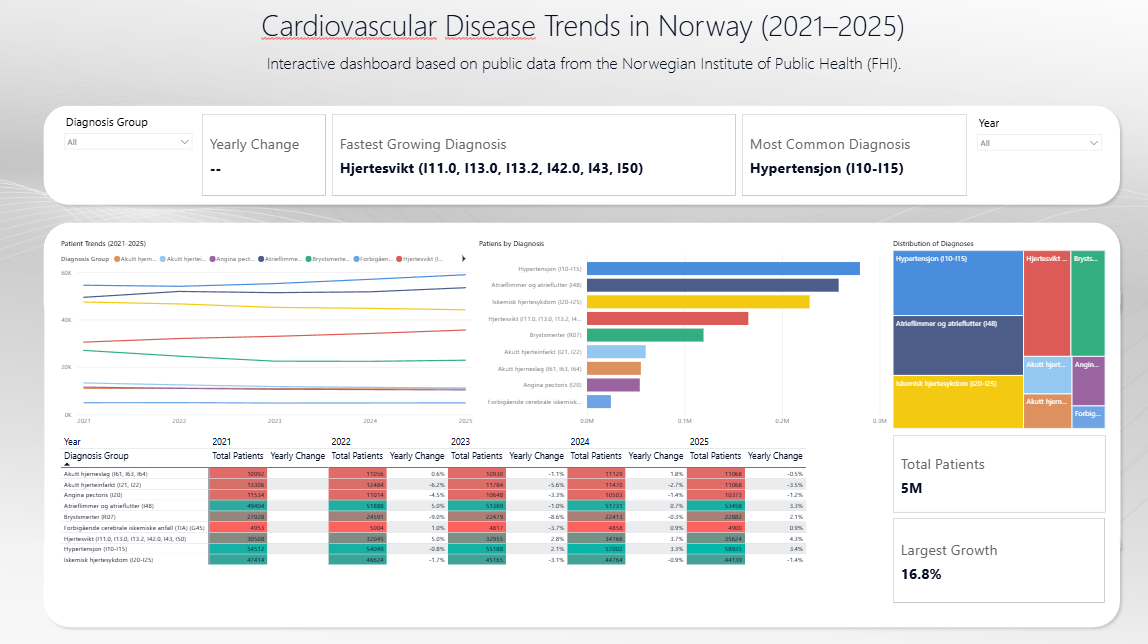

This screenshot's page, from the dashboard's own definition file:
{"tool":"powerbi","page":{"name":"Page 1","canvas":[1920,1080],"ordinal":0},"visuals":[{"type":"shape","box":[65,167.5,1812.5,183.8],"z":1000},{"type":"shape","box":[66.2,480,1811.2,445],"z":1500},{"type":"shape","box":[65,363.6,1812.9,196.4],"z":2000},{"type":"shape","box":[65,860,1812.5,196.2],"z":3000},{"type":"shape","box":[80,440,1788,528],"z":3500},{"type":"slicer","fields":{"Values":["Sheet1.Year"]},"box":[1620,187.5,227.5,145],"z":4000},{"type":"slicer","fields":{"Values":["Sheet1.Diagnosis Group"]},"box":[98.8,186.2,233.8,146.2],"z":5000},{"type":"cardVisual","title":"Total Patients","fields":{"Data":["Sheet1.Total Patients Summed"]},"box":[1485,721,364,139],"z":6000},{"type":"cardVisual","title":"Largest Diagnosis","fields":{"Data":["Sheet1.Largest Diagnosis"]},"box":[1233.2,186.6,385.9,146.3],"z":7000},{"type":"lineChart","title":"Patient Trends (2021-2025)","fields":{"Series":["Sheet1.Diagnosis Group"],"Category":["Sheet1.Year"],"Y":["Sheet1.Total Patients Summed"]},"box":[98.4,398.5,696,322.8],"z":8000},{"type":"clusteredBarChart","title":"Patiens by Diagnosis","fields":{"Category":["Sheet1.Diagnosis Group"],"Y":["Sheet1.Total Patients Summed"]},"box":[795.4,398.5,690,323.1],"z":9000},{"type":"treemap","title":"Distribution of Diagnoses","fields":{"Group":["Sheet1.Diagnosis Group"],"Values":["Sheet1.Total Patients Summed"]},"box":[1485.3,398.8,363.5,322.4],"z":10000},{"type":"cardVisual","fields":{"Data":["Sheet1.YoY Change %"]},"box":[332.9,186.6,216.9,146.3],"z":11000},{"type":"pivotTable","fields":{"Rows":["Sheet1.Diagnosis Group"],"Columns":["Sheet1.Year"],"Values":["Sheet1.Total Patients Summed","Sheet1.YoY %"]},"box":[98.4,721.3,1387,290],"z":12000},{"type":"cardVisual","fields":{"Data":["Sheet1.Largest Increase"]},"box":[549.8,186.6,683.4,146.3],"z":13000},{"type":"cardVisual","fields":{"Data":["Sheet1.Largest Increase %"]},"box":[1485.4,860,363.2,151.3],"z":14000},{"type":"textbox","box":[100,5,1747.5,77.5],"z":15000},{"type":"textbox","box":[100,82.5,1750,85],"z":16000}]}

Visuals, with their boxes in screenshot pixels (x1, y1, x2, y2), scaled from the page's 1920x1080 canvas onto the 1148x644 screenshot:
shape: locate(39, 100, 1123, 209)
shape: locate(40, 286, 1123, 552)
shape: locate(39, 217, 1123, 334)
shape: locate(39, 513, 1123, 630)
shape: locate(48, 262, 1117, 577)
slicer - Sheet1.Year: locate(969, 112, 1105, 198)
slicer - Sheet1.Diagnosis Group: locate(59, 111, 199, 198)
"Total Patients" cardVisual: locate(888, 430, 1106, 513)
"Largest Diagnosis" cardVisual: locate(737, 111, 968, 199)
"Patient Trends (2021-2025)" lineChart: locate(59, 238, 475, 430)
"Patiens by Diagnosis" clusteredBarChart: locate(476, 238, 888, 430)
"Distribution of Diagnoses" treemap: locate(888, 238, 1105, 430)
cardVisual - Sheet1.YoY Change %: locate(199, 111, 329, 199)
pivotTable - Sheet1.Diagnosis Group x Sheet1.Year: locate(59, 430, 888, 603)
cardVisual - Sheet1.Largest Increase: locate(329, 111, 737, 199)
cardVisual - Sheet1.Largest Increase %: locate(888, 513, 1105, 603)
textbox: locate(60, 3, 1105, 49)
textbox: locate(60, 49, 1106, 100)
